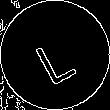L_NW: (30, 25, 80, 85)
